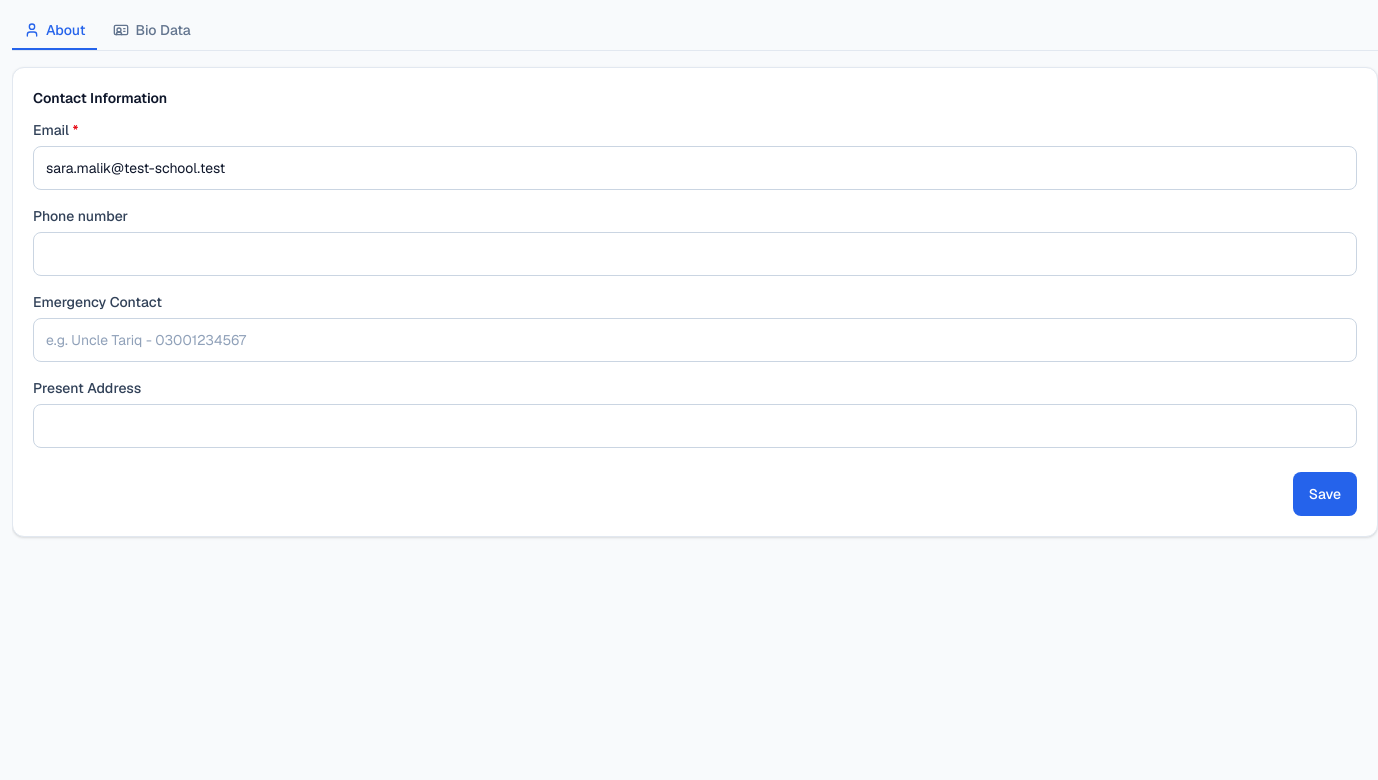
Test: StudentProfileTabs › shows an empty-guardian message when the student has no guardian on record
Click the button "Bio Data": (152, 31) [101,12,203,50]
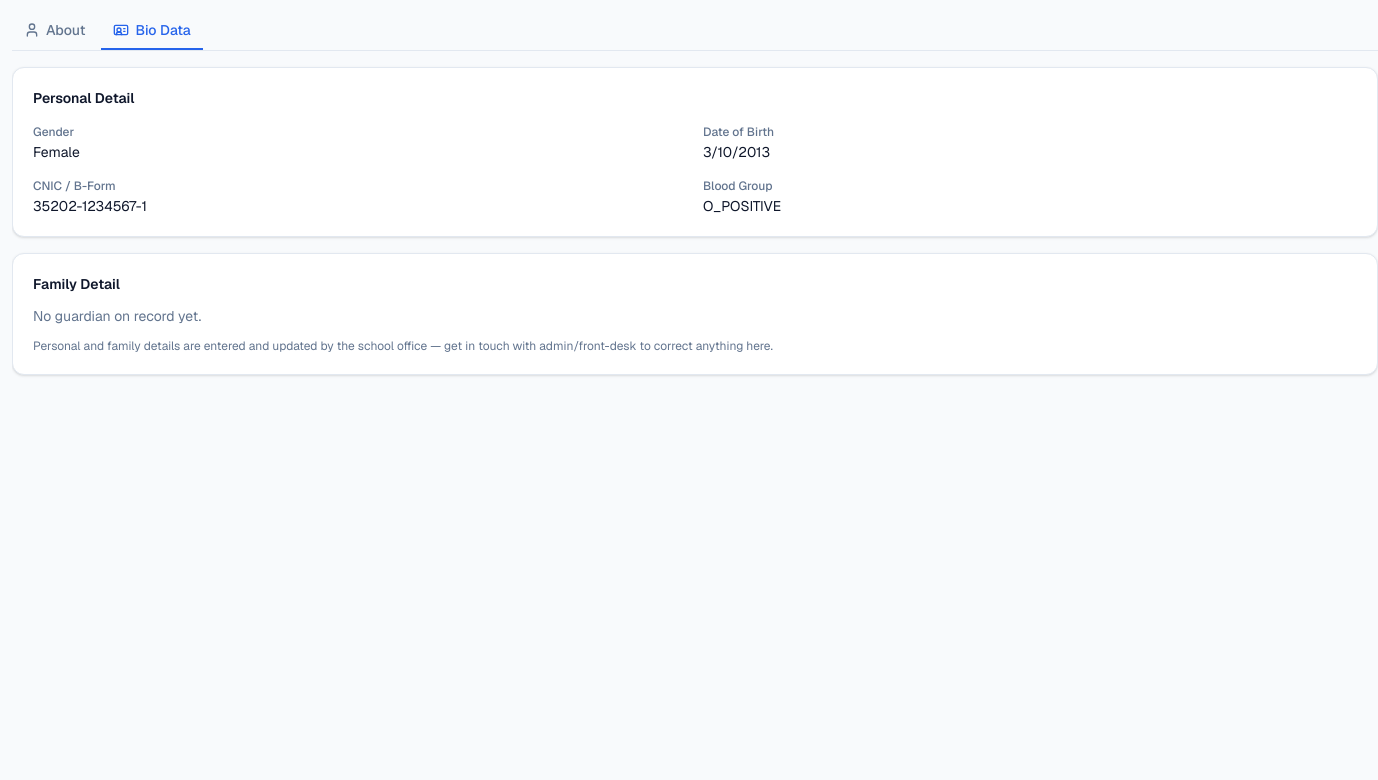
Expected: the text "No guardian on record yet." is shown, [33,307,201,325]
